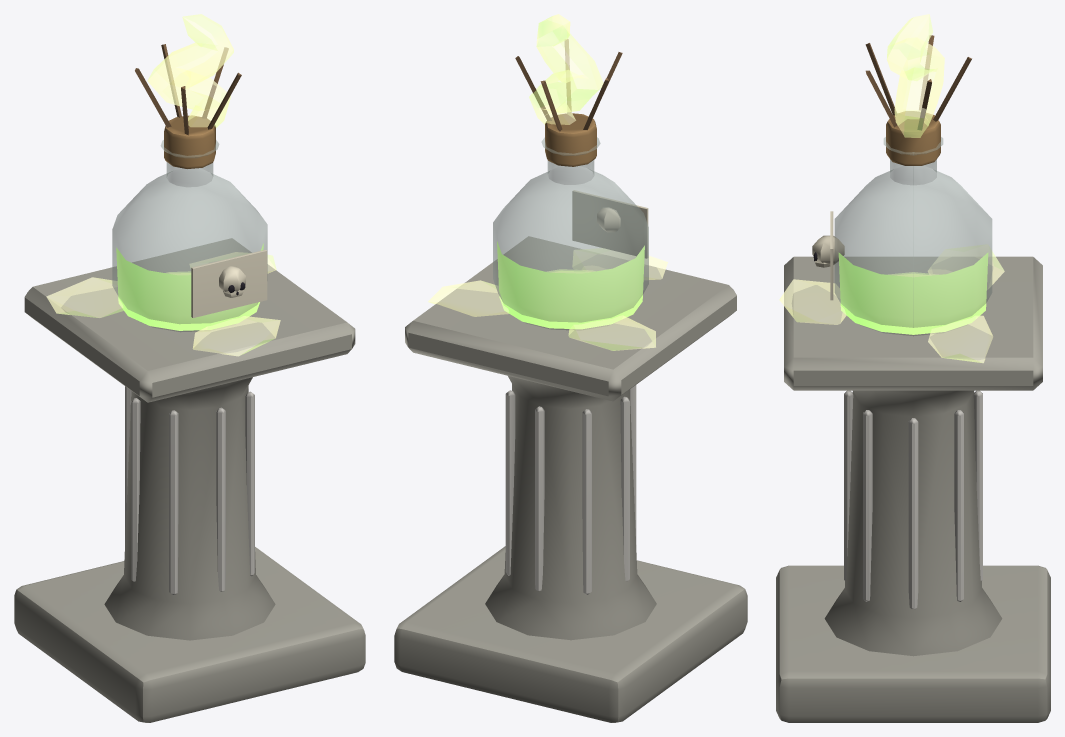
File: diffuser_formaldehyde.glb
The picture shows the model from 3 angles, left to right: view 1: azimuth 30°, elevation 25°; view 2: azimuth 150°, elevation 25°; view 3: azimuth 270°, elevation 25°; orthographic projection. The views are drawn at different scales.
Visible parts, largest first — view 1: diffuser_formaldehyde; view 2: diffuser_formaldehyde; view 3: diffuser_formaldehyde.
Boxes of the visible parts, box(x1,y1,x2,y2) form: diffuser_formaldehyde: box(14, 14, 365, 722); diffuser_formaldehyde: box(394, 14, 747, 722); diffuser_formaldehyde: box(776, 14, 1050, 722).
Size of the model in its own units: 0.34 by 0.899 by 0.34.
